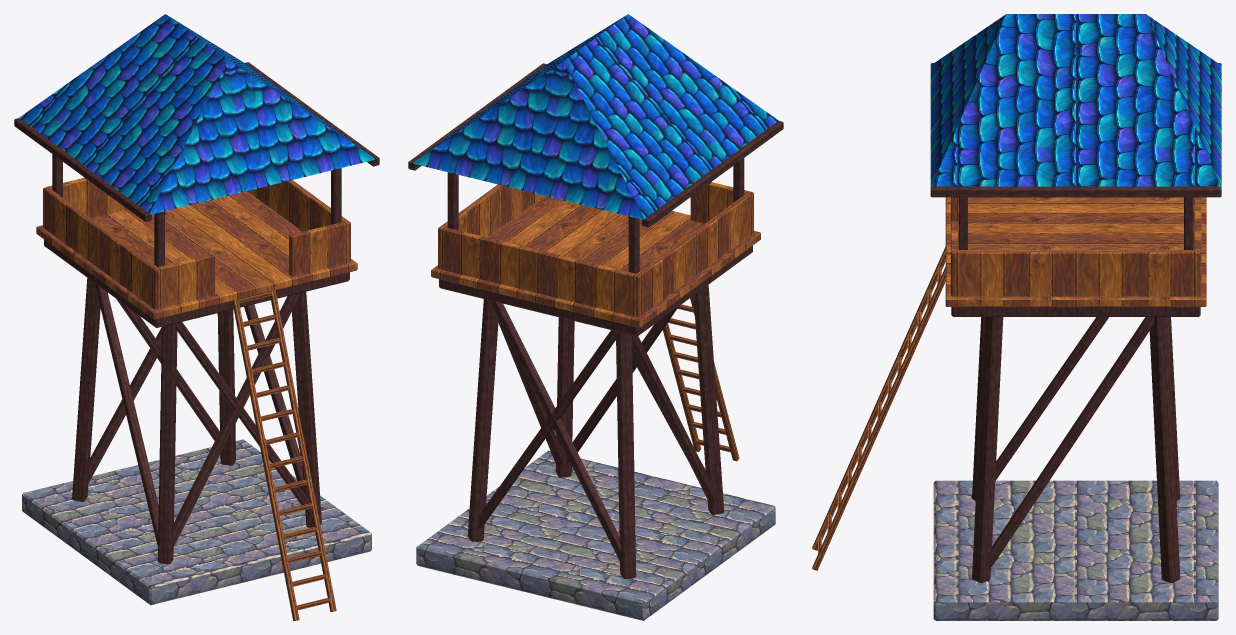
The model's file is Watchtower.fbx.
The picture shows the model from 3 angles, left to right: view 1: azimuth 30°, elevation 25°; view 2: azimuth 150°, elevation 25°; view 3: azimuth 270°, elevation 25°; orthographic projection. The views are drawn at different scales.
Parts seen in each view (by area): view 1: Covered watch platform roof, Watchtower stone foundation, Lookout plank floor, Lookout low side screen, Tapering timber watchtower leg, Tapering timber watchtower leg.001, Tapering timber watchtower leg.002, Side tower frame brace, Tower frame diagonal.001, Lookout front railing.001, Lookout front railing, Lookout low side screen.001 (+13 smaller); view 2: Covered watch platform roof, Watchtower stone foundation, Lookout plank floor, Lookout rear screen, Lookout low side screen, Tapering timber watchtower leg.001, Tapering timber watchtower leg.003, Tapering timber watchtower leg, Tower frame diagonal.003, Lookout platform joists, Lookout low side screen.001, Tower frame diagonal.002 (+11 smaller); view 3: Covered watch platform roof, Watchtower stone foundation, Lookout plank floor, Lookout low side screen.001, Tapering timber watchtower leg.003, Tapering timber watchtower leg.002, Eaves fascia.009, Side tower frame brace.001, Lookout platform joists, Lookout ladder rail.001, Side tower frame brace, Lookout ladder rail (+2 smaller).
Part boxes in pixels (x1,y1,x2,y2): Covered watch platform roof: (19, 14, 375, 214); Watchtower stone foundation: (22, 439, 371, 605); Lookout plank floor: (36, 191, 357, 319); Lookout low side screen: (43, 187, 156, 309); Tapering timber watchtower leg: (157, 323, 177, 564); Tapering timber watchtower leg.001: (72, 278, 100, 501); Tapering timber watchtower leg.002: (292, 291, 321, 527); Side tower frame brace: (94, 283, 158, 545); Tower frame diagonal.001: (172, 293, 300, 548); Lookout front railing.001: (289, 221, 349, 276); Lookout front railing: (155, 254, 214, 309); Lookout low side screen.001: (247, 180, 350, 262); Covered watch platform roof: (412, 14, 778, 219); Watchtower stone foundation: (416, 450, 775, 620); Lookout plank floor: (431, 196, 760, 327); Lookout rear screen: (440, 227, 635, 316); Lookout low side screen: (634, 191, 753, 317); Tapering timber watchtower leg.001: (616, 332, 636, 578); Tapering timber watchtower leg.003: (467, 299, 498, 541); Tapering timber watchtower leg: (693, 285, 724, 514); Tower frame diagonal.003: (490, 300, 621, 562); Lookout platform joists: (439, 245, 752, 336); Lookout low side screen.001: (438, 184, 544, 269); Tower frame diagonal.002: (478, 330, 618, 528); Covered watch platform roof: (930, 14, 1221, 187); Watchtower stone foundation: (933, 480, 1218, 620); Lookout plank floor: (945, 197, 1206, 306); Lookout low side screen.001: (951, 250, 1200, 296); Tapering timber watchtower leg.003: (1149, 317, 1180, 582); Tapering timber watchtower leg.002: (972, 317, 1003, 583); Eaves fascia.009: (930, 186, 1221, 197); Side tower frame brace.001: (987, 317, 1154, 567); Lookout platform joists: (951, 307, 1200, 316); Lookout ladder rail.001: (812, 267, 945, 570); Side tower frame brace: (995, 317, 1108, 480); Lookout ladder rail: (812, 247, 945, 550).
Size of the model in its own units: 506 by 1018 by 689.
